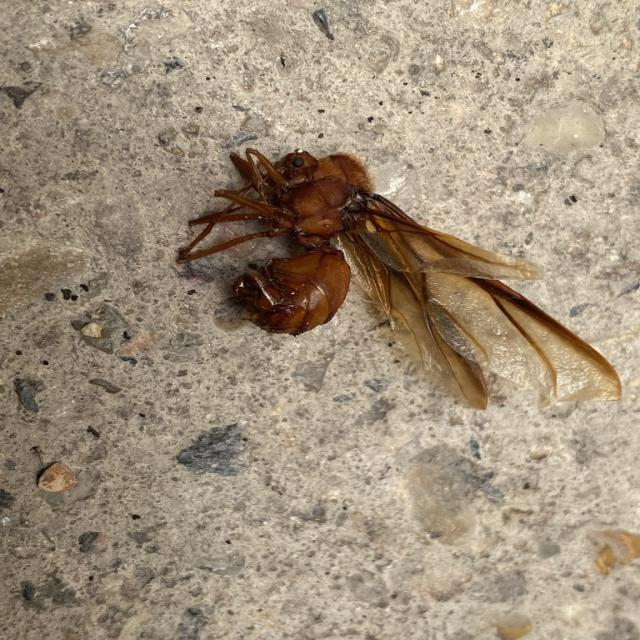Dead-Male-Alate: (175, 147, 622, 410)
